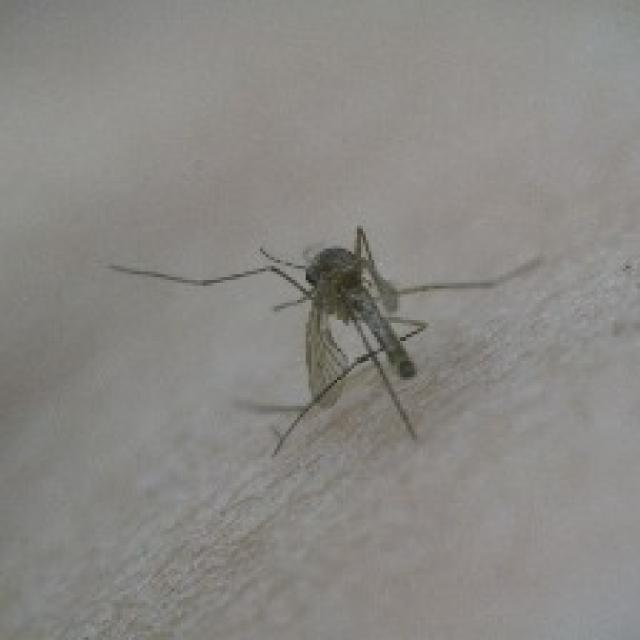culex: (106, 223, 543, 457)
